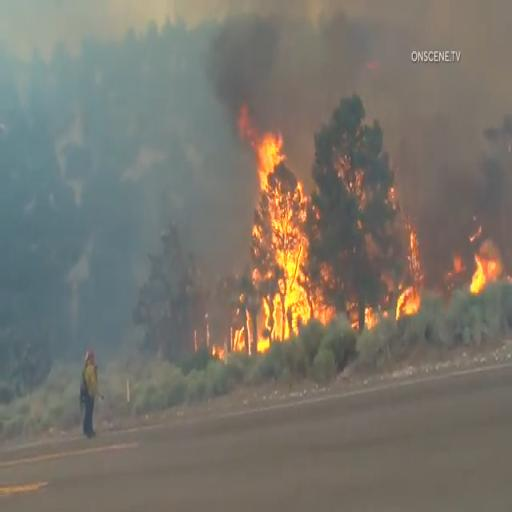fire: (248, 134, 321, 330)
